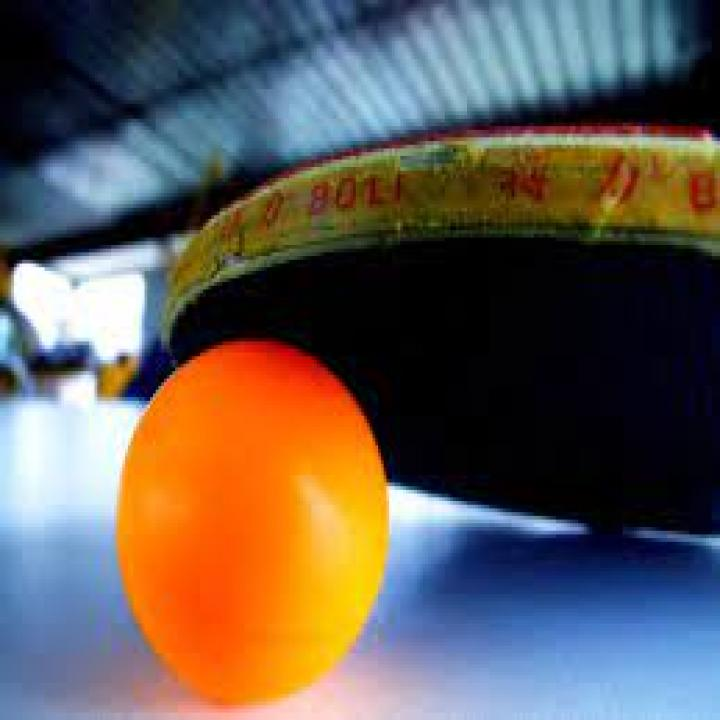orange: (92, 330, 399, 720)
